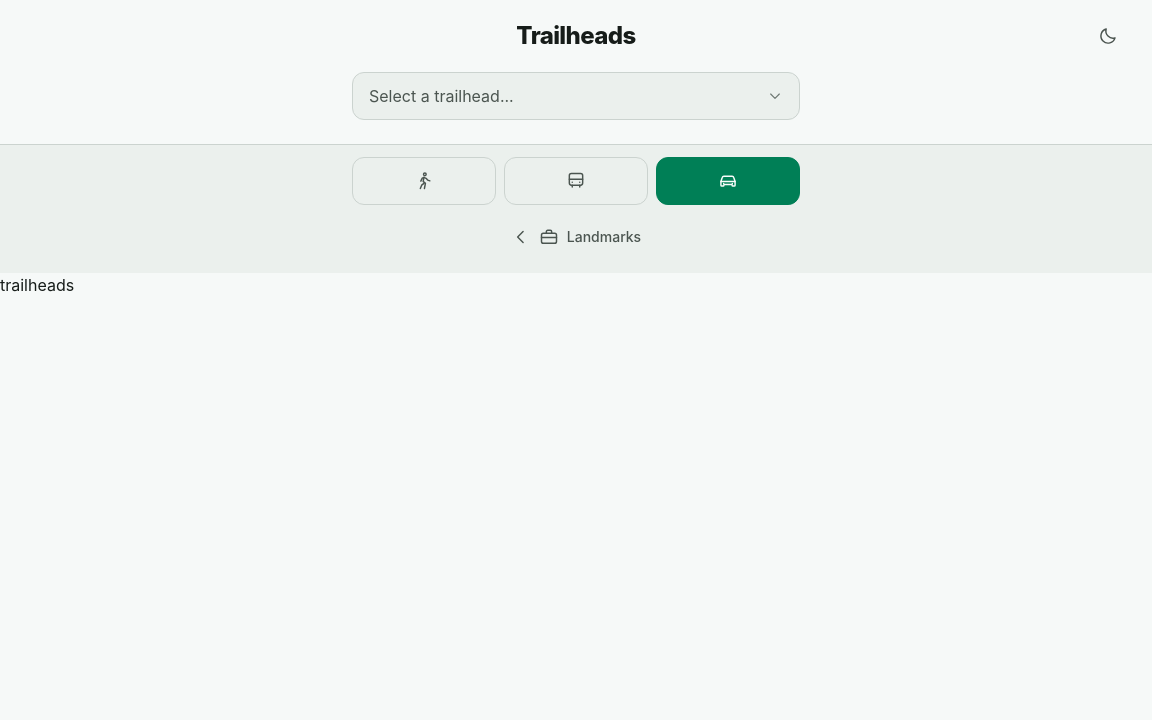
TrailheadFinder › Picker › reports when nothing matches
This screenshot has width=1152, height=720.
Click the button "Select a trailhead...".
click(441, 96)  # box [352,72,800,120]
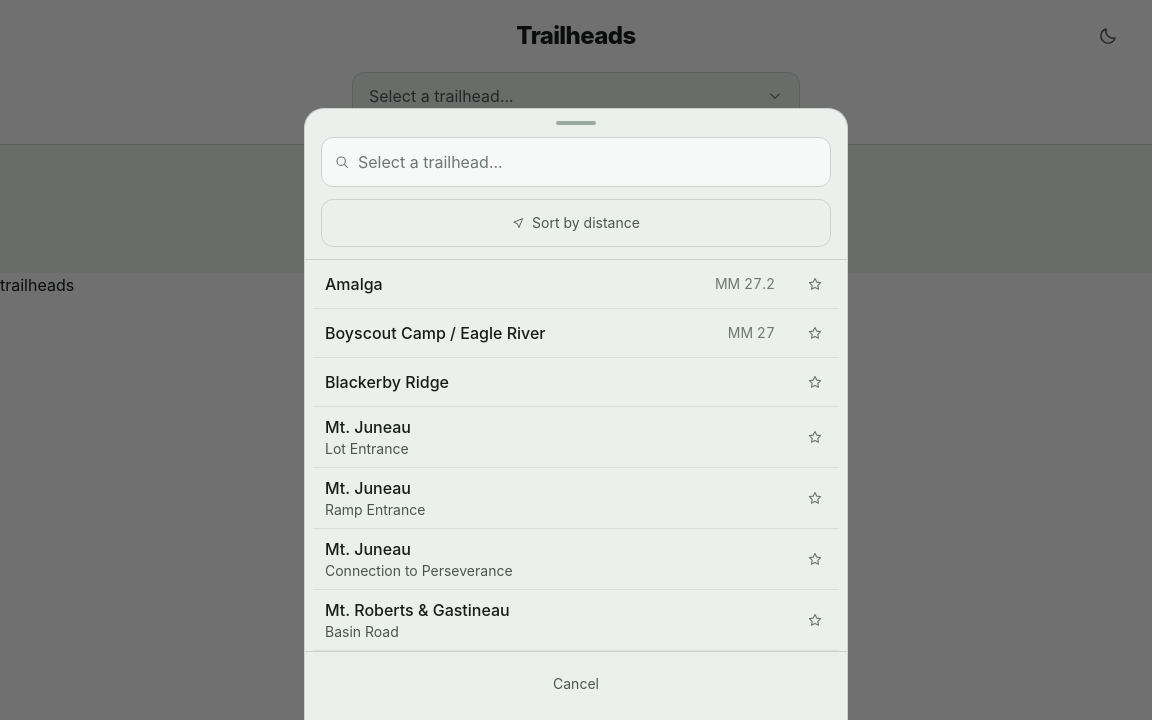
Type "zzzz" into the search field named "Search trailhead".
click(588, 162); type("zzzz")  # box [358,138,818,186]
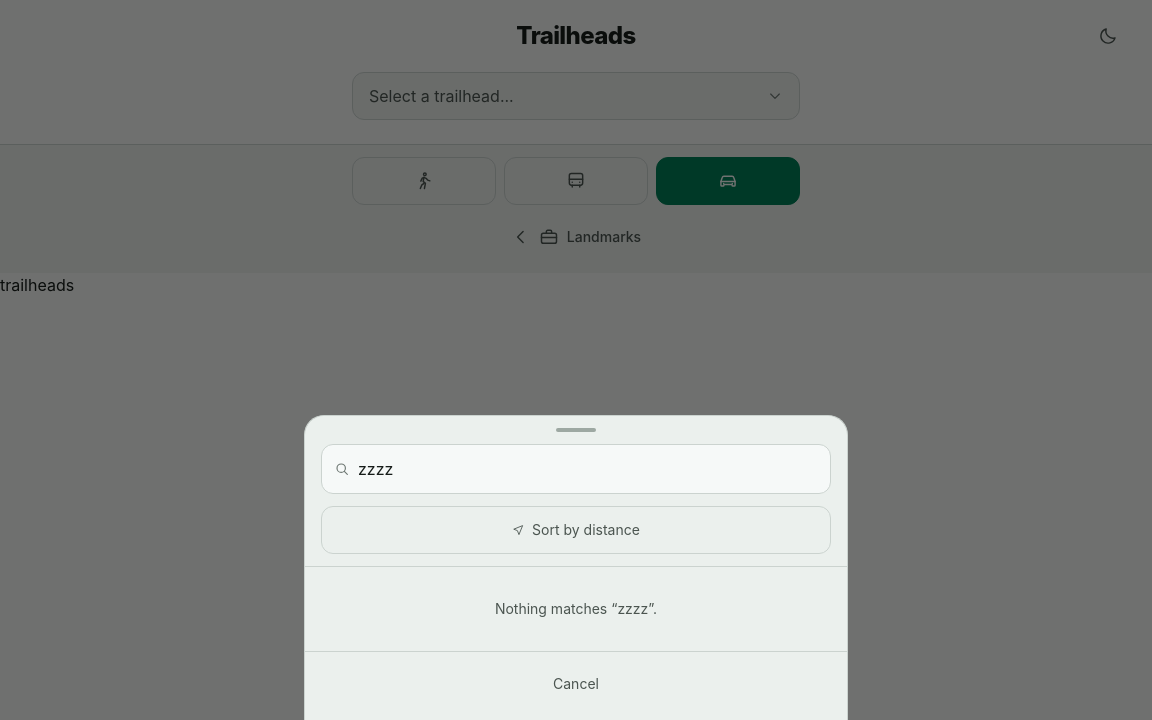
expect the text "Nothing matches “zzzz”." is shown: met, box [495,600,657,617]
